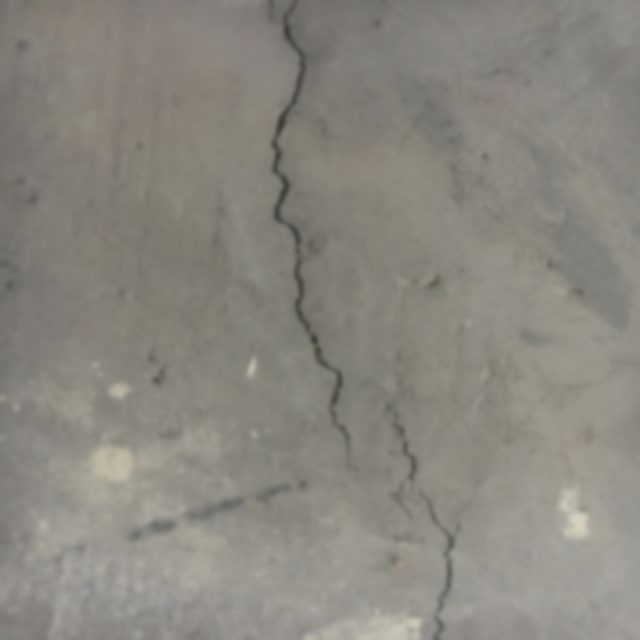SurfaceCrack: (234, 0, 382, 634)
